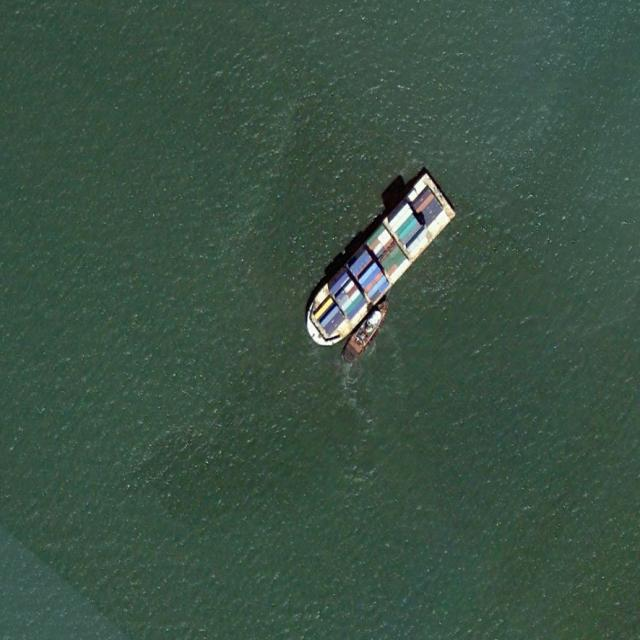Container Ship: (294, 168, 457, 359)
Hovercraft: (340, 295, 392, 367)
